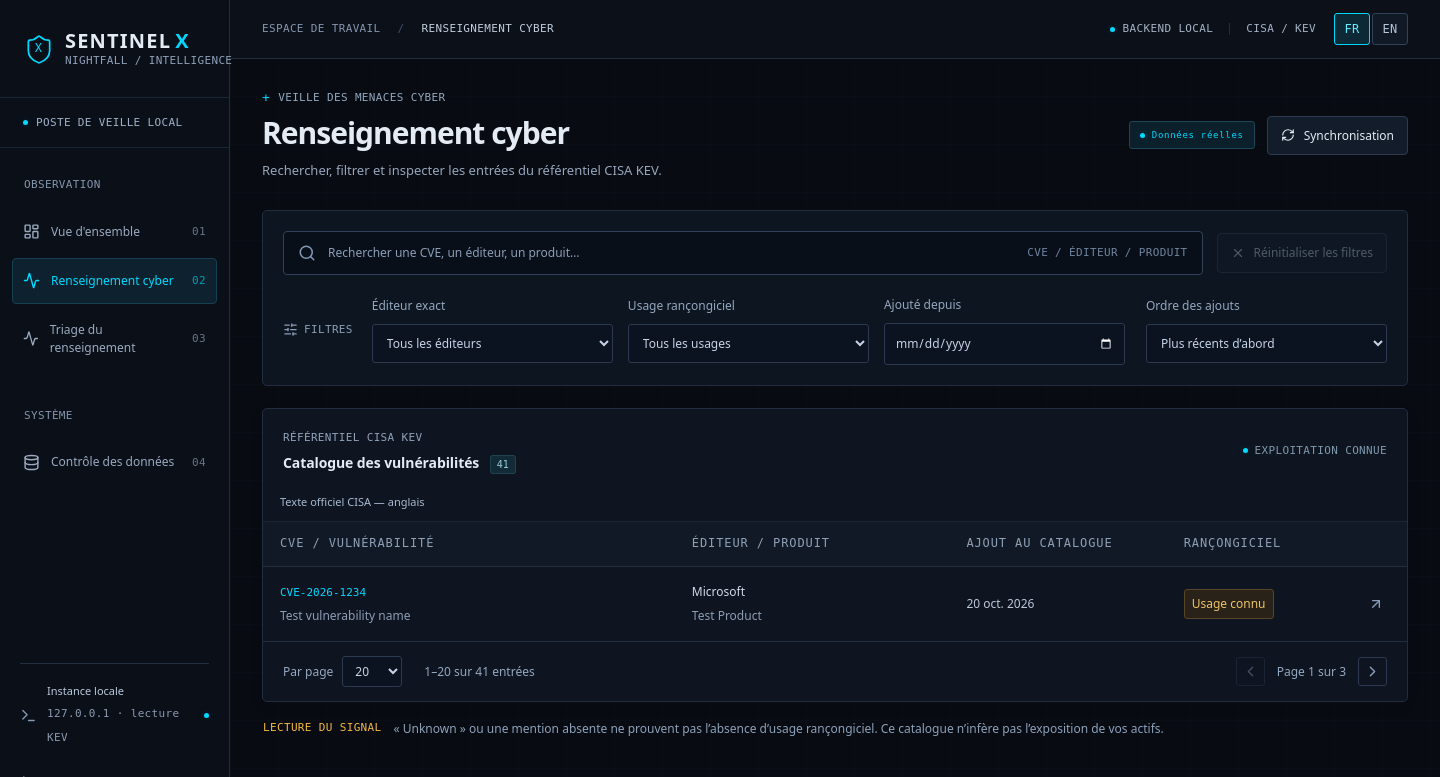
Test case: pagine et conserve les filtres après inspection puis retour
Type "Microsoft" into the search field at (672, 253), box [328,232,1015,274]
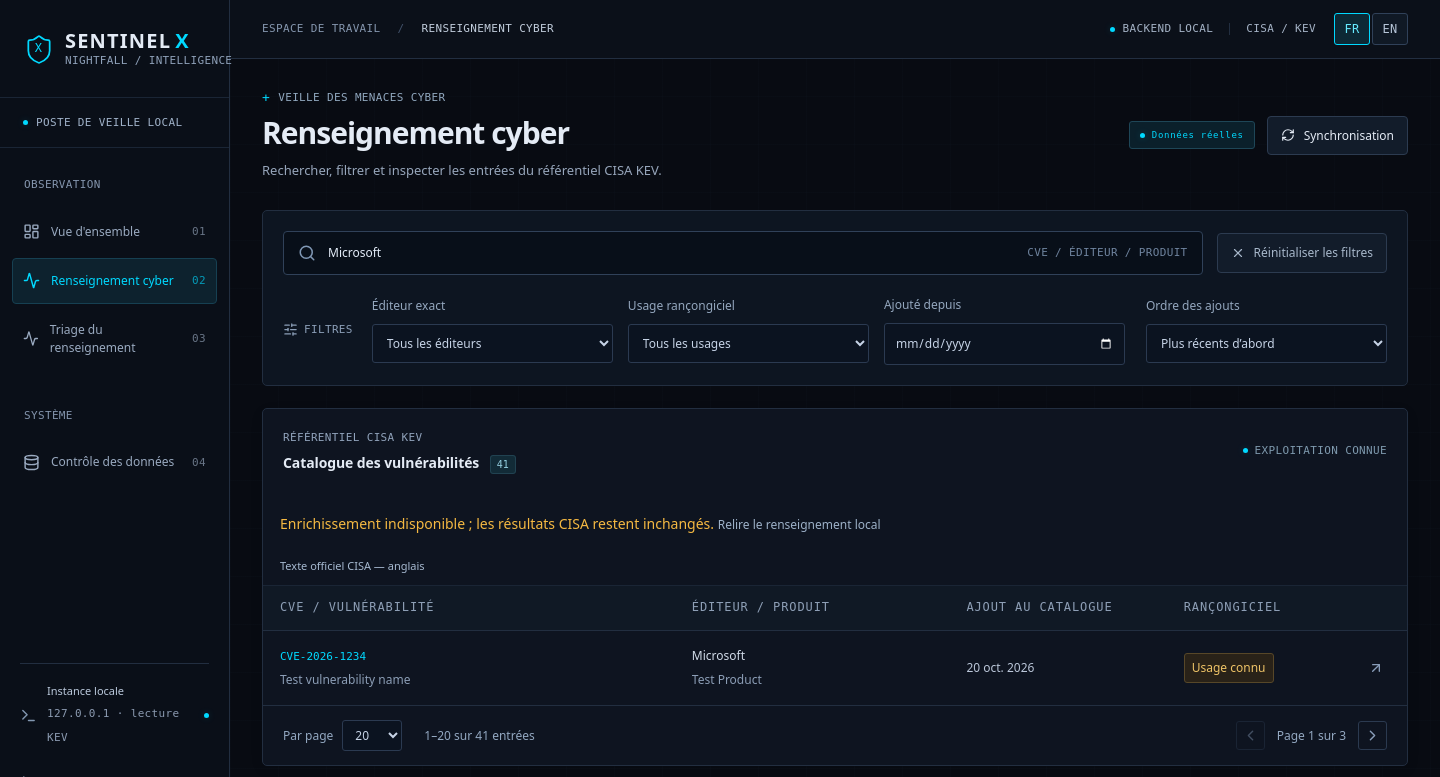
Click the button named "Page suivante" at (1372, 736), box [1358,721,1387,750]
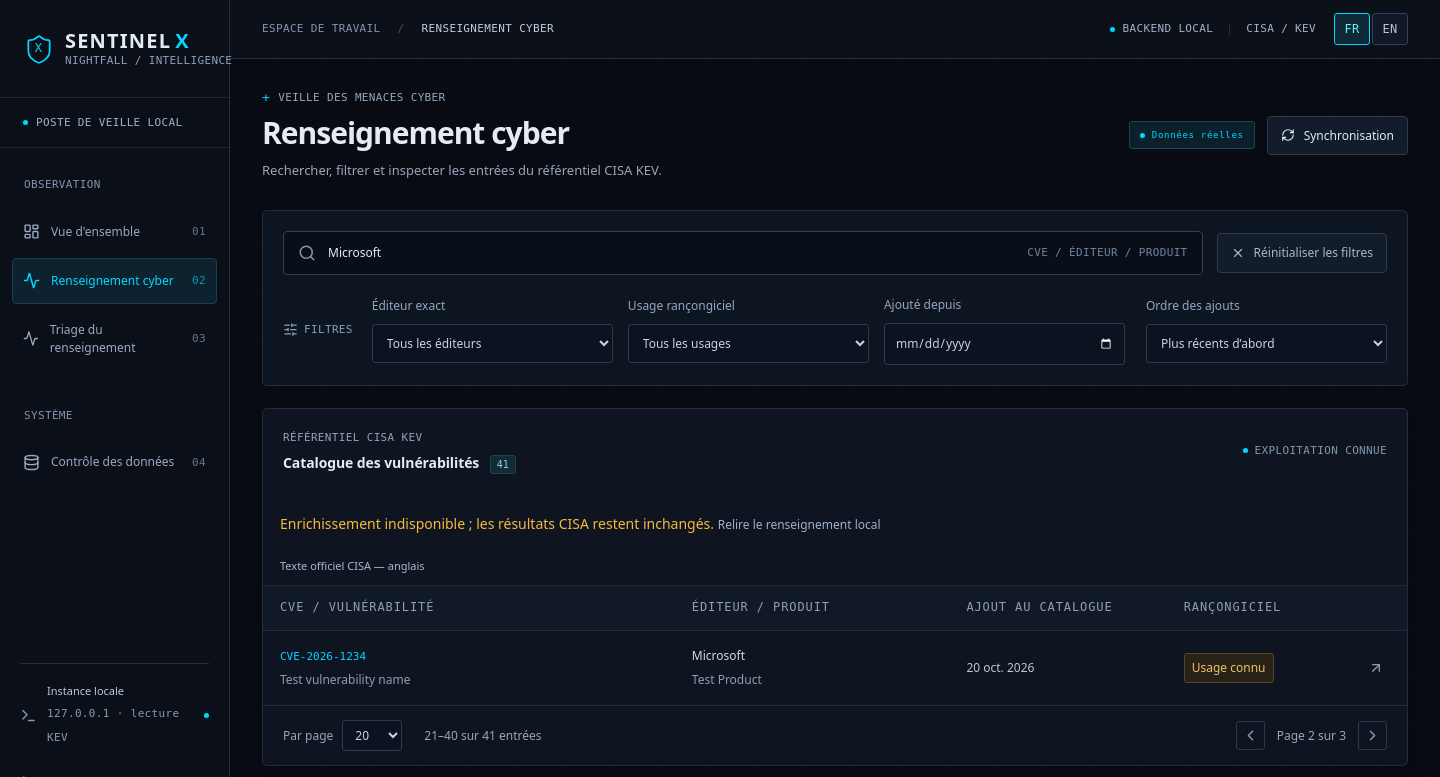
Result: the text "Page 2 sur 3" is shown at [1277,726,1346,746]
Click the button with aria-label "Ouvrir CVE-2026-1234" at (323, 656), box [280,647,366,666]
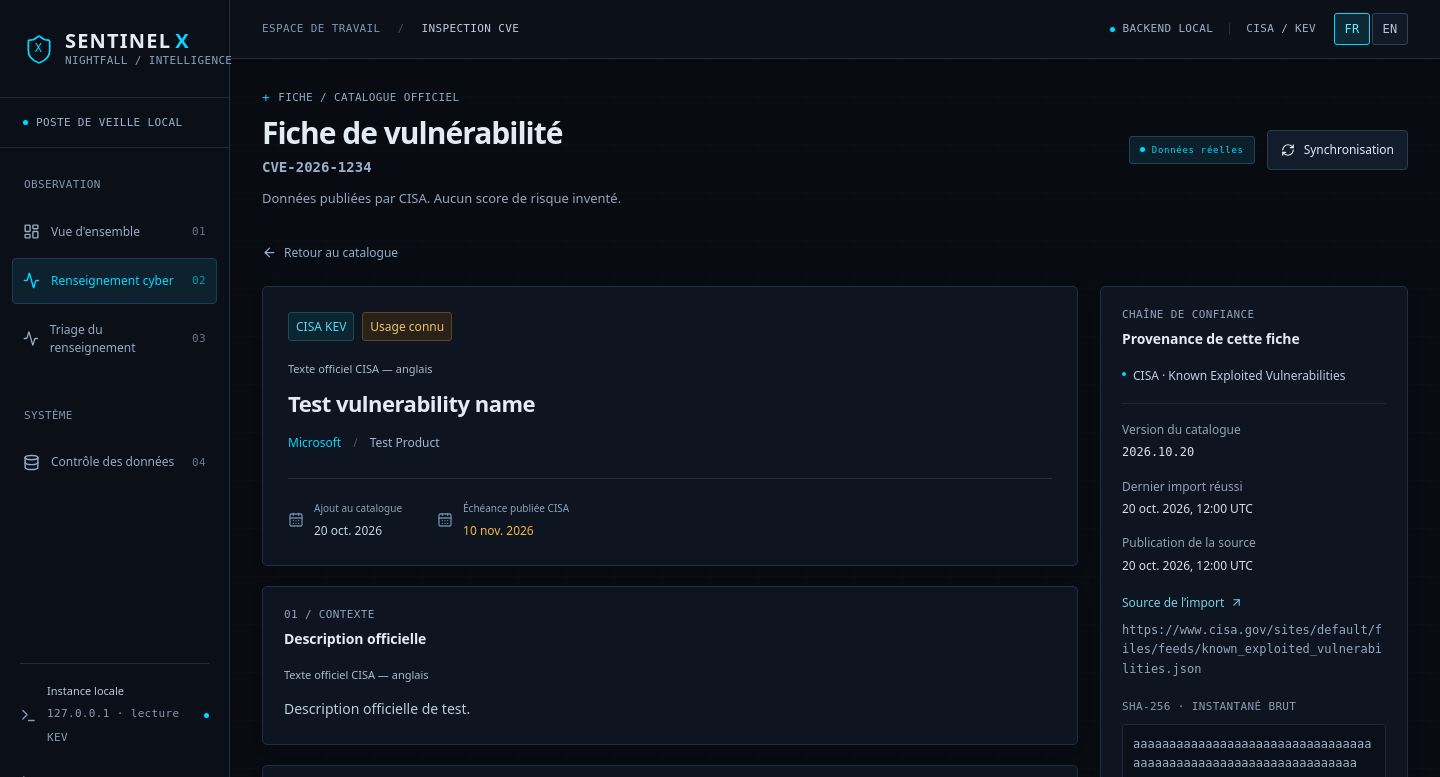
Click the button "Retour au catalogue" at (330, 253), box [262,239,398,267]
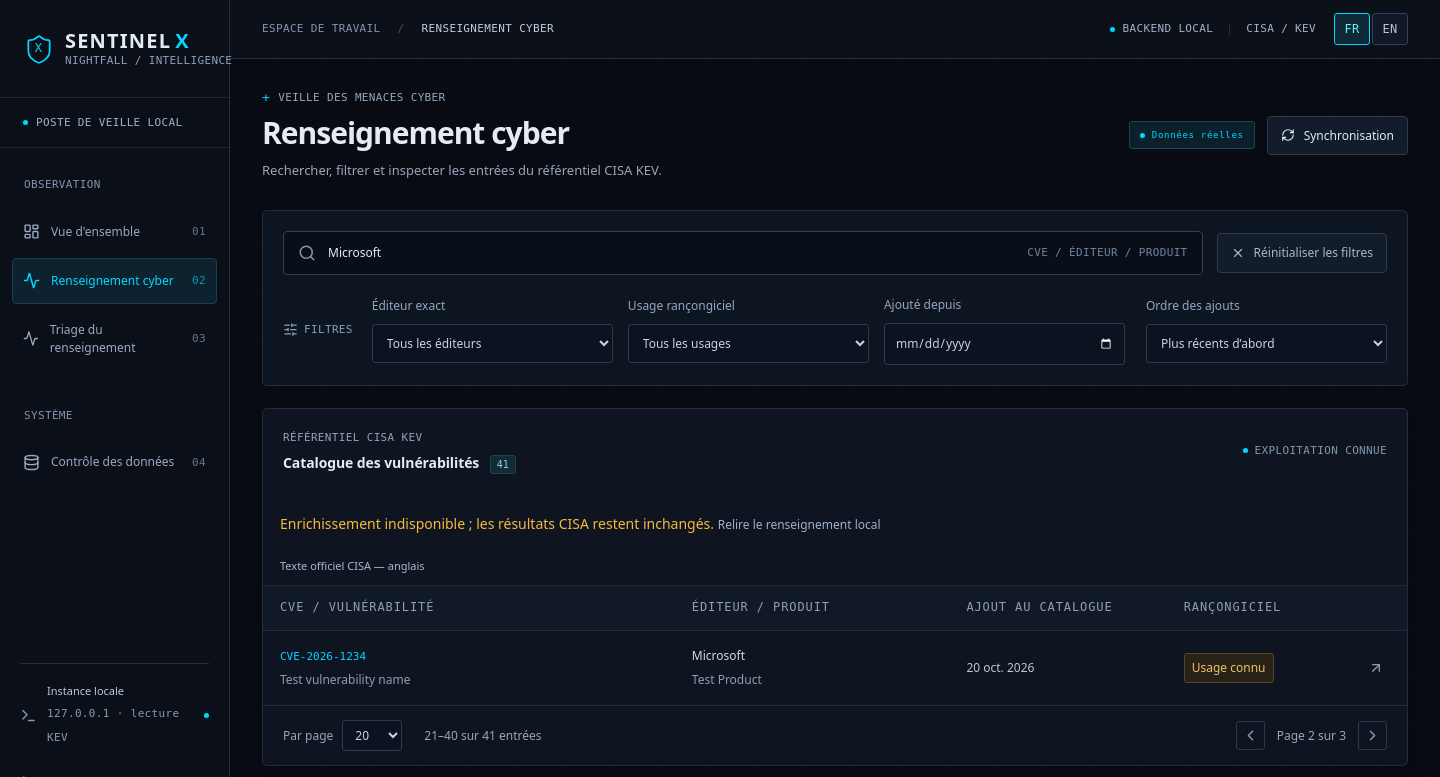
Result: the search field holds "Microsoft" at [328,232,1015,274]
Result: the text "Page 2 sur 3" is shown at [1277,726,1346,746]
